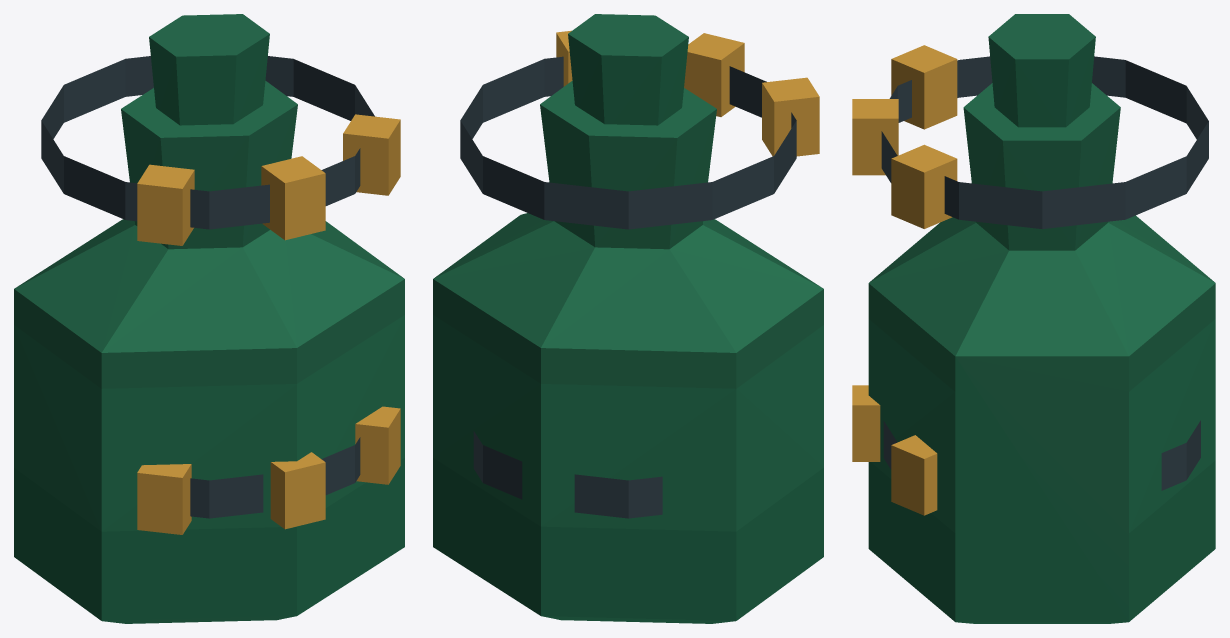
Rendered from jug-mint.glb.
3 views of the same model, side by side, from view 1: azimuth 30°, elevation 25°; view 2: azimuth 150°, elevation 25°; view 3: azimuth 270°, elevation 25° (orthographic).
Visible parts, largest first — view 1: jug-mint; view 2: jug-mint; view 3: jug-mint.
Boxes of the visible parts, box(x1,y1,x2,y2) form: jug-mint: box(14, 14, 404, 623); jug-mint: box(433, 14, 823, 623); jug-mint: box(852, 14, 1215, 623).
Size of the model in its own units: 0.35 by 0.59 by 0.3665.
